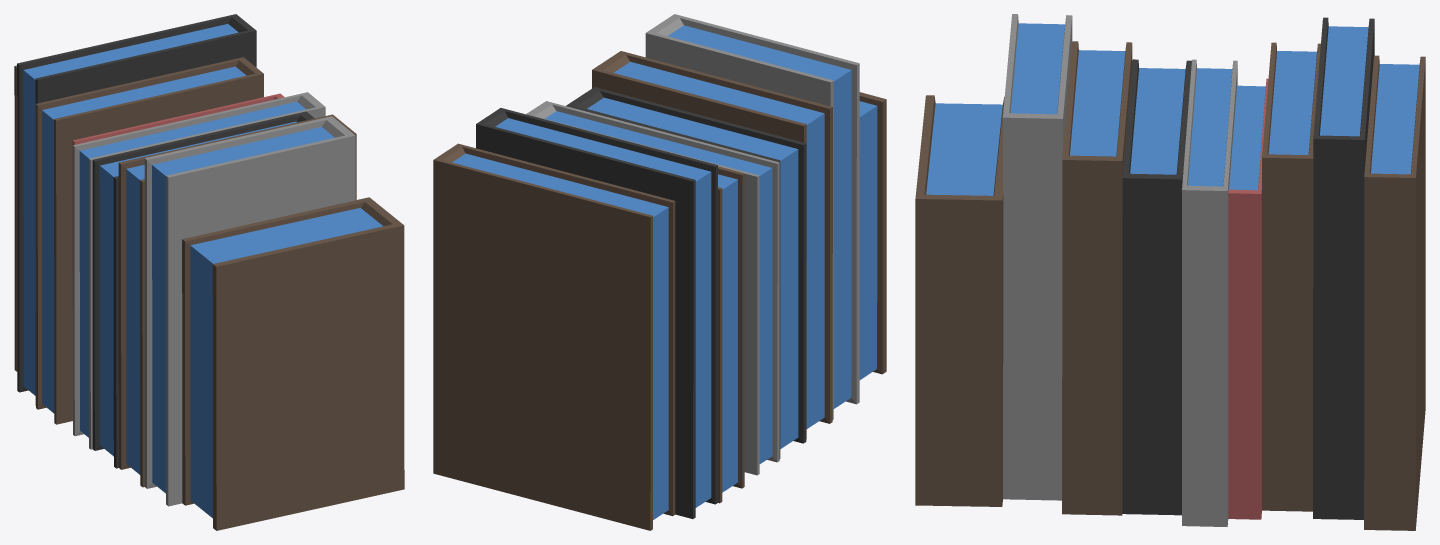
Rendered from Bedroom3_Books5.fbx.
3 renders of one model, left to right at view 1: azimuth 30°, elevation 25°; view 2: azimuth 150°, elevation 25°; view 3: azimuth 270°, elevation 25°, orthographic. The views are drawn at different scales.
Visible parts, largest first — view 1: Bedroom3_Books5; view 2: Bedroom3_Books5; view 3: Bedroom3_Books5.
Boxes of the visible parts, <box> form: Bedroom3_Books5: <box>14,14,404,530</box>; Bedroom3_Books5: <box>433,14,886,530</box>; Bedroom3_Books5: <box>915,14,1425,530</box>.
Size of the model in its own units: 33.26 by 43.6 by 52.83.
